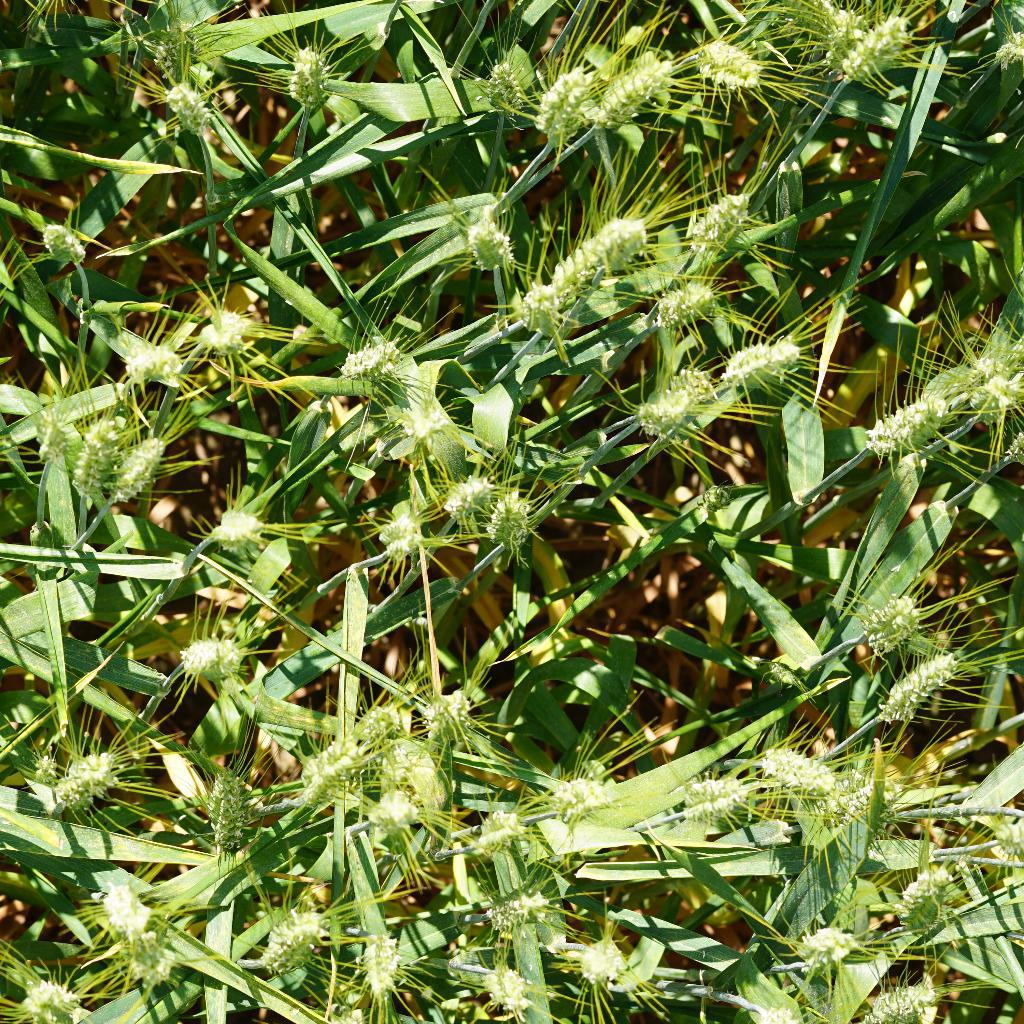0-0: (541, 202, 651, 296), (852, 377, 948, 460), (806, 773, 922, 841), (869, 646, 960, 728), (273, 733, 372, 808), (714, 326, 807, 403), (684, 174, 765, 257), (195, 751, 265, 845), (247, 908, 329, 987), (594, 51, 669, 134), (795, 777, 908, 832), (840, 14, 930, 83), (954, 345, 1024, 432), (754, 736, 841, 804), (382, 728, 466, 796), (845, 585, 927, 654), (352, 777, 434, 844), (533, 762, 623, 821), (176, 620, 249, 691), (456, 206, 526, 279), (530, 60, 586, 149), (891, 860, 956, 935), (793, 915, 867, 980), (467, 45, 526, 126), (276, 36, 336, 115), (691, 37, 770, 97), (66, 406, 116, 497), (649, 275, 718, 340), (630, 369, 694, 438), (683, 766, 748, 833), (159, 67, 219, 138), (332, 335, 408, 391), (202, 501, 271, 561), (651, 344, 720, 403), (116, 336, 190, 391), (576, 929, 634, 998), (370, 512, 434, 574), (357, 927, 408, 1004), (331, 691, 404, 744), (851, 983, 945, 1024), (197, 299, 251, 370), (486, 881, 553, 938), (482, 489, 535, 561), (813, 4, 868, 71), (509, 283, 574, 339), (438, 462, 489, 533), (114, 930, 175, 989), (932, 355, 990, 416), (154, 10, 201, 83), (107, 437, 161, 500), (477, 964, 542, 1016), (397, 391, 462, 443), (19, 407, 75, 467), (58, 750, 116, 807), (39, 218, 97, 274), (417, 686, 479, 737), (96, 879, 152, 934), (778, 0, 837, 52), (25, 974, 86, 1024), (12, 737, 60, 792), (479, 804, 529, 849), (987, 819, 1023, 877), (756, 655, 807, 694), (700, 481, 736, 515)
